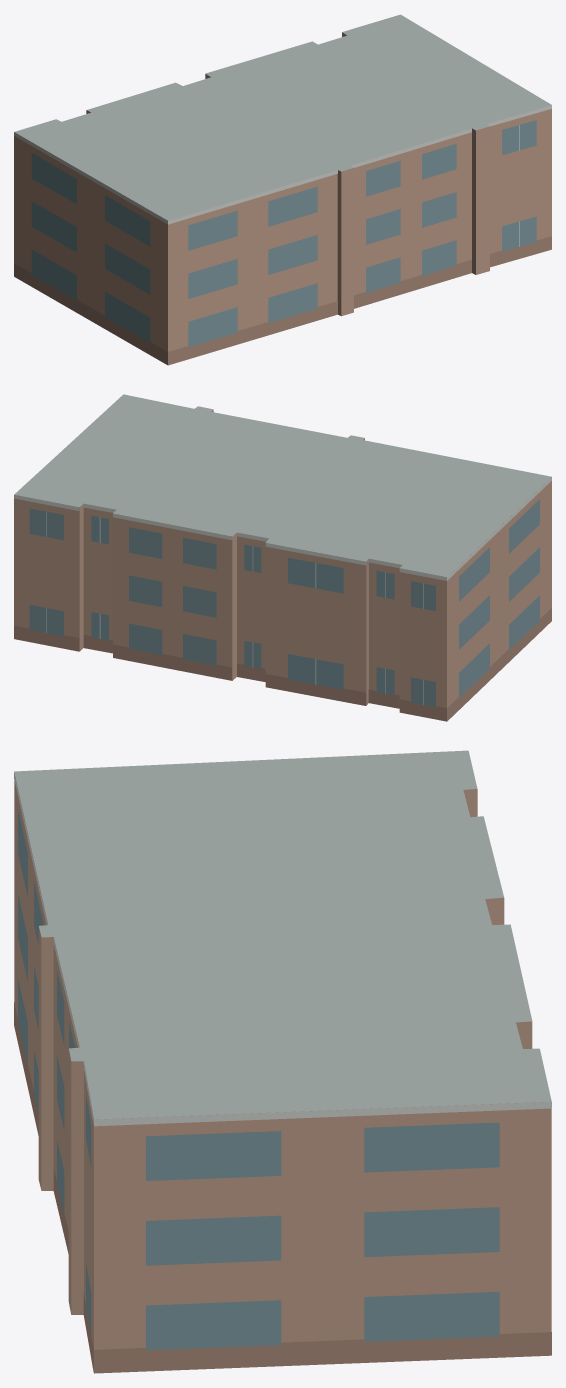
File: survey-upis-32462149.glb
3 renders of one model, top to bottom at view 1: azimuth 30°, elevation 25°; view 2: azimuth 150°, elevation 25°; view 3: azimuth 270°, elevation 25°, orthographic. The views are drawn at different scales.
Visible parts, largest first — view 1: survey-upis-32462149.tmp; view 2: survey-upis-32462149.tmp; view 3: survey-upis-32462149.tmp.
Boxes of the visible parts, x1,y1,x2,y2 form: survey-upis-32462149.tmp: (14, 14, 551, 365); survey-upis-32462149.tmp: (14, 394, 551, 721); survey-upis-32462149.tmp: (14, 750, 551, 1373).
Bounding box in the file's own units: 28.54 × 9.15 × 17.57.
